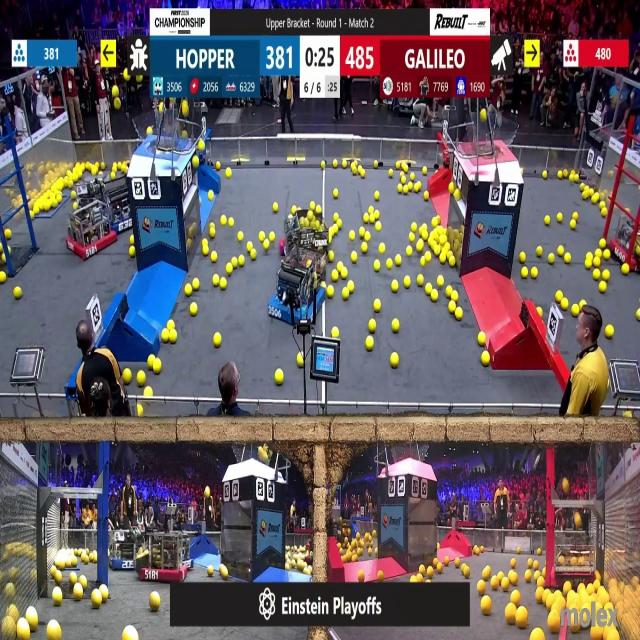ball_airborne: (573, 514, 581, 530), (181, 102, 188, 117), (563, 480, 570, 494), (123, 68, 130, 81), (114, 99, 121, 111), (112, 87, 118, 99), (192, 158, 198, 170), (481, 109, 487, 121), (200, 141, 206, 151), (181, 132, 188, 140), (136, 75, 142, 81), (148, 128, 152, 136)
ball_ground: (517, 609, 528, 630), (149, 592, 160, 612), (505, 603, 515, 623), (482, 596, 492, 615), (550, 615, 560, 634), (54, 588, 64, 606), (276, 368, 285, 385), (100, 586, 108, 603), (390, 352, 399, 367), (137, 372, 146, 387), (74, 586, 83, 600), (512, 591, 521, 605), (532, 628, 543, 639), (213, 334, 221, 349), (535, 589, 543, 604), (604, 324, 612, 338), (482, 352, 490, 366), (364, 337, 372, 351), (123, 368, 131, 382), (153, 359, 161, 373), (479, 581, 486, 596), (478, 334, 486, 347), (484, 566, 492, 579), (220, 565, 228, 578), (511, 571, 518, 585), (296, 353, 303, 367), (170, 332, 178, 344), (501, 580, 509, 592), (79, 574, 87, 586), (462, 564, 469, 577), (189, 304, 196, 317), (56, 570, 63, 583), (593, 270, 601, 281), (416, 241, 424, 252), (431, 216, 439, 227), (456, 308, 463, 320), (375, 300, 382, 312), (449, 302, 456, 314), (392, 320, 399, 332), (13, 286, 20, 298), (403, 276, 410, 288), (522, 268, 529, 280), (572, 305, 579, 317), (149, 356, 155, 370), (348, 280, 355, 292), (220, 278, 227, 290), (525, 570, 532, 582), (546, 253, 554, 263), (622, 266, 630, 276), (549, 253, 557, 263), (164, 331, 170, 344), (599, 239, 606, 250), (238, 256, 245, 267), (70, 572, 77, 583), (331, 271, 338, 282), (391, 281, 398, 292), (326, 285, 332, 297), (602, 270, 608, 282), (532, 268, 538, 280), (130, 246, 136, 258), (192, 279, 198, 291), (368, 320, 374, 332), (492, 579, 498, 591), (562, 300, 568, 312), (557, 290, 563, 302), (210, 228, 216, 240), (144, 387, 152, 396), (374, 262, 381, 272), (564, 253, 571, 263), (595, 249, 602, 259), (599, 282, 606, 292), (349, 232, 356, 242), (586, 260, 593, 270), (557, 212, 564, 222), (536, 246, 542, 257), (212, 251, 218, 262), (604, 249, 610, 260), (450, 255, 456, 266), (439, 276, 445, 287), (415, 181, 421, 192), (447, 288, 453, 299), (417, 574, 424, 583), (594, 258, 601, 267), (407, 182, 414, 191), (564, 583, 571, 592), (520, 252, 526, 262), (376, 220, 382, 230), (138, 406, 143, 418), (169, 320, 175, 330), (375, 190, 381, 200), (428, 566, 433, 578), (418, 276, 424, 286), (224, 168, 230, 178), (601, 208, 607, 218), (342, 269, 348, 279), (0, 273, 6, 283), (558, 246, 564, 256), (185, 284, 191, 294), (431, 290, 437, 300), (537, 575, 543, 585), (424, 284, 430, 294), (400, 174, 406, 184), (208, 566, 214, 576), (361, 243, 367, 253), (358, 168, 364, 178), (420, 256, 426, 266), (425, 252, 431, 262), (5, 230, 11, 240), (214, 276, 220, 286), (358, 569, 363, 581), (379, 570, 385, 580), (233, 256, 239, 266), (409, 234, 416, 242), (364, 234, 371, 242), (331, 162, 338, 170), (441, 254, 447, 263), (412, 222, 418, 231), (412, 574, 418, 583), (265, 241, 271, 250), (351, 167, 357, 176), (270, 234, 276, 243), (220, 216, 226, 225), (433, 246, 439, 255), (367, 214, 373, 223), (375, 211, 381, 220), (352, 252, 357, 262), (408, 246, 413, 256), (512, 558, 517, 568), (396, 255, 401, 265), (381, 243, 386, 253), (359, 230, 364, 240), (528, 559, 533, 569), (226, 266, 231, 276), (363, 213, 368, 223), (209, 190, 214, 200), (388, 260, 393, 270), (328, 251, 333, 261), (238, 234, 244, 242), (338, 264, 344, 272), (584, 190, 590, 198), (72, 558, 78, 566), (422, 168, 428, 176), (424, 190, 429, 199), (402, 184, 407, 193), (487, 568, 492, 577), (320, 281, 326, 288), (388, 170, 394, 177), (568, 174, 574, 181), (305, 567, 311, 574), (352, 555, 358, 562), (570, 220, 575, 228), (544, 215, 548, 225), (204, 247, 209, 255), (252, 250, 256, 260), (259, 234, 264, 242), (1, 254, 6, 262), (274, 203, 278, 213), (600, 202, 606, 208), (187, 239, 191, 248), (216, 163, 220, 171), (420, 564, 424, 572), (411, 172, 415, 180), (321, 162, 325, 170), (456, 560, 460, 568), (131, 237, 135, 245), (204, 239, 208, 246), (426, 578, 431, 583), (516, 548, 520, 554)
goal: (464, 116, 518, 158), (136, 115, 193, 152)
robot_blue: (270, 249, 328, 328), (86, 175, 137, 235), (108, 528, 144, 570)
robot_red: (68, 196, 117, 258), (135, 532, 191, 584), (554, 532, 594, 588), (287, 208, 329, 254)
